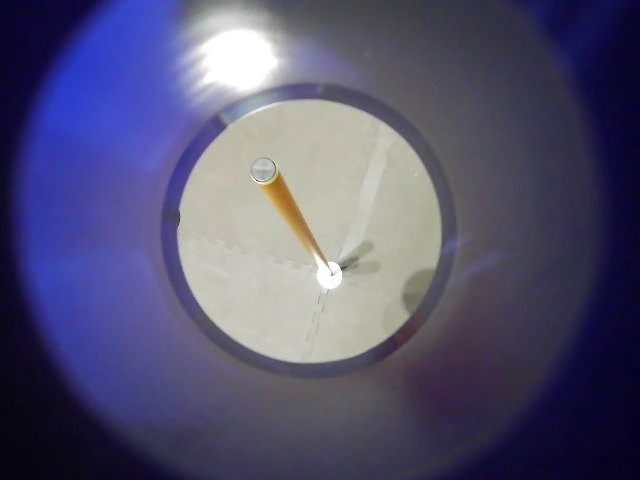tip: (240, 149, 300, 199)
